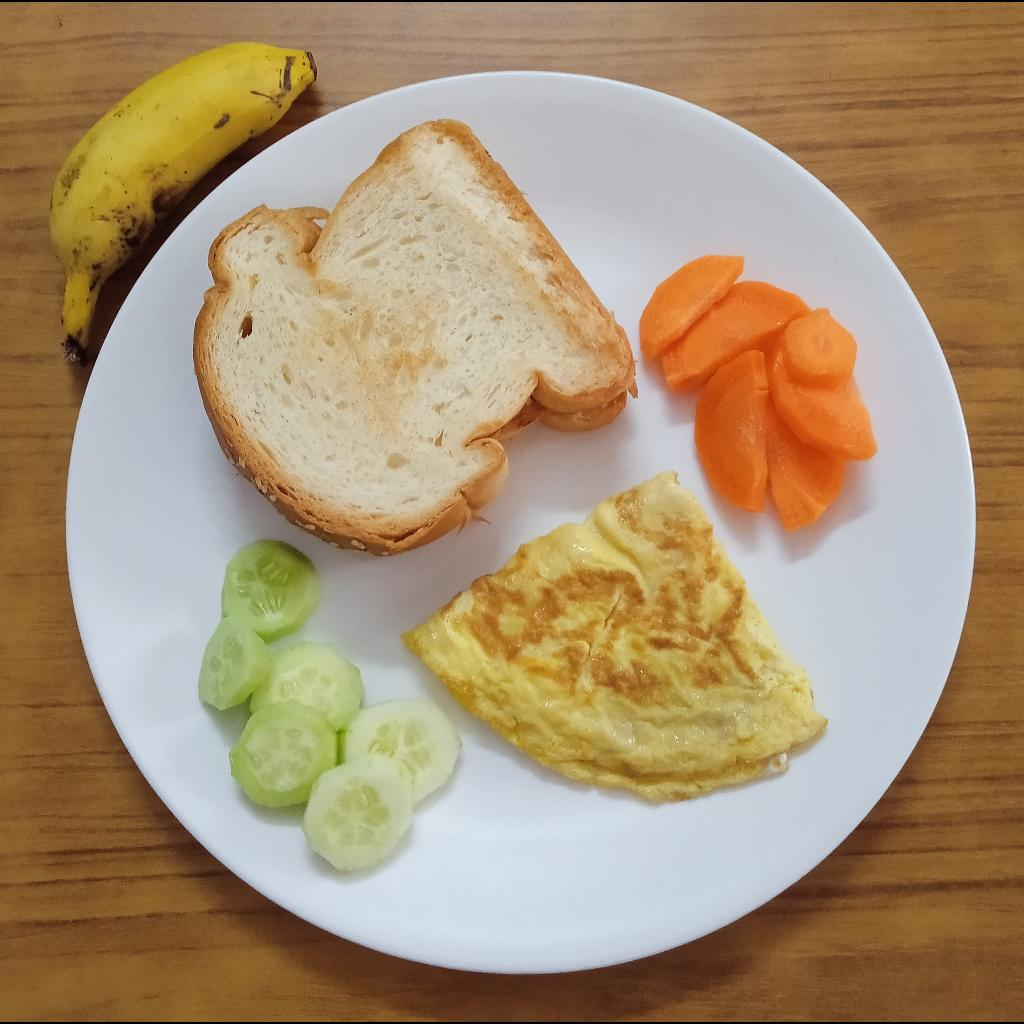banana: (46, 39, 318, 374)
bread: (191, 118, 641, 562)
carrot: (636, 248, 879, 535)
cucumber: (196, 542, 467, 872)
egg-poached: (401, 473, 826, 804)
